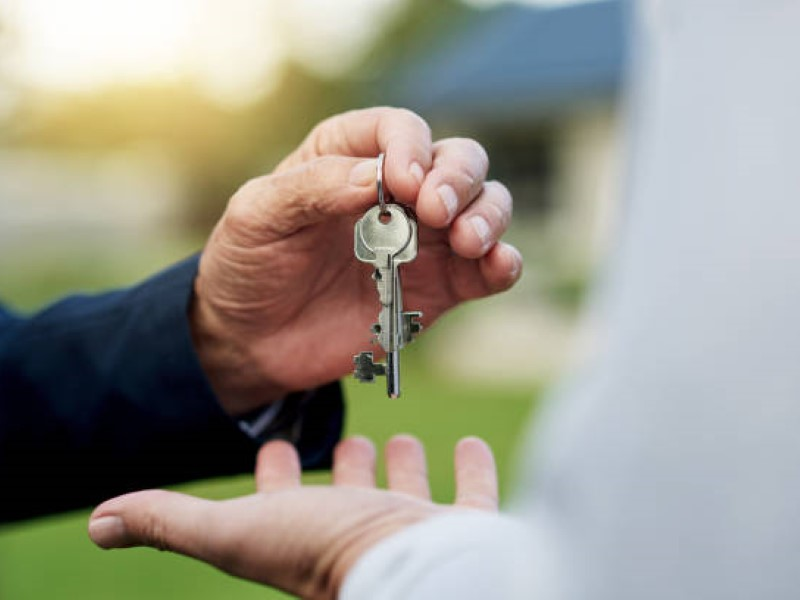key: (348, 206, 426, 407)
